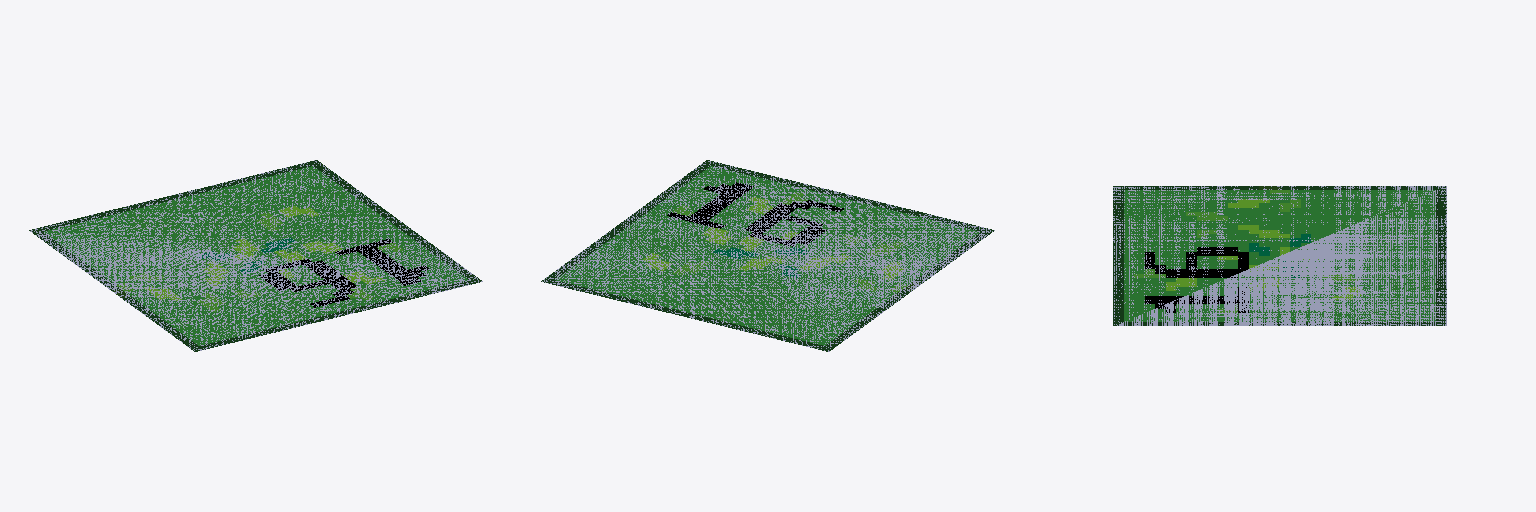
3 renders of one model, left to right at view 1: azimuth 30°, elevation 25°; view 2: azimuth 150°, elevation 25°; view 3: azimuth 270°, elevation 25°, orthographic.
Visible parts, largest first — view 1: Mesh1 Model; view 2: Mesh1 Model; view 3: Mesh1 Model.
Boxes of the visible parts, box(x1,y1,x2,y2) form: Mesh1 Model: box(29, 160, 482, 351); Mesh1 Model: box(541, 160, 994, 351); Mesh1 Model: box(1113, 186, 1446, 325).
Bounding box in the file's own units: 32 × 0 × 32.
2 materials, 1 textured.